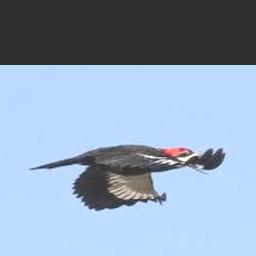Woodpecker: (28, 144, 225, 211)
